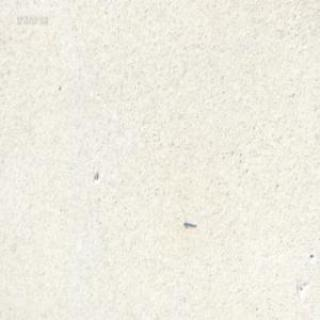Nailtrack_idkeyframe: (182, 218, 196, 226)
